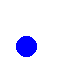circle: (16, 36, 36, 56)
